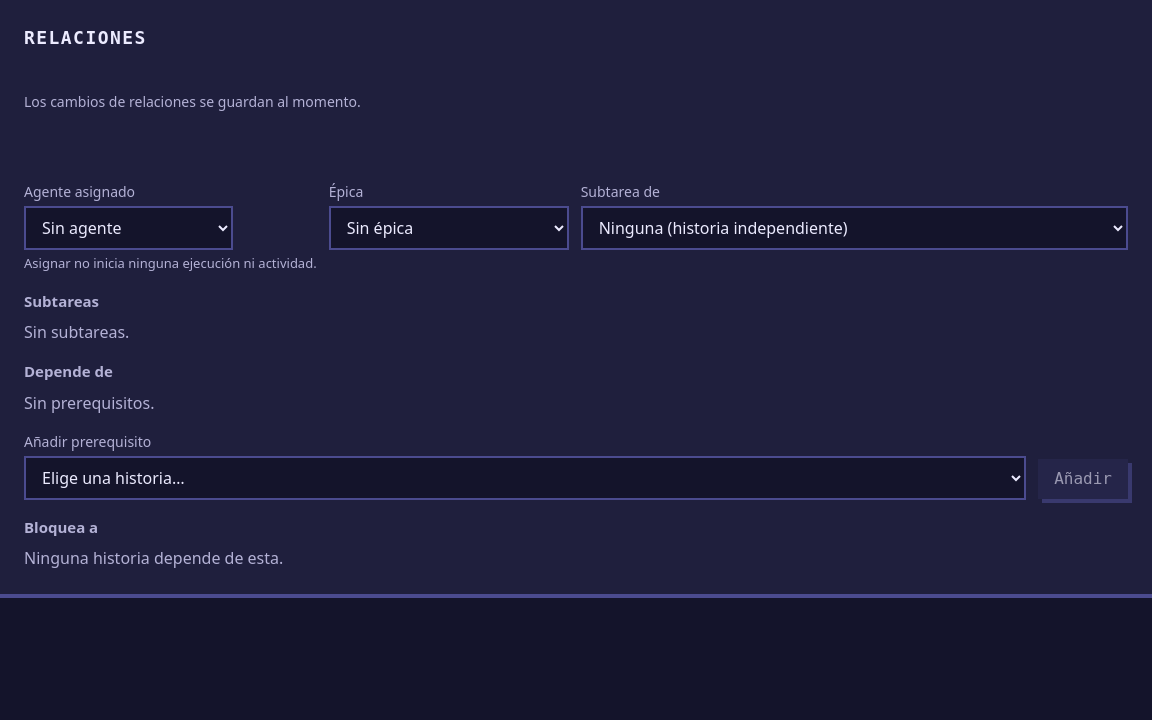
RelationsPanel: confirmación y foco › confirma visiblemente y no pierde el foco al cambiar la épica
Select "E-1 Pagos" in the dropdown labelled "Épica": (449, 228) [329,206,569,250]
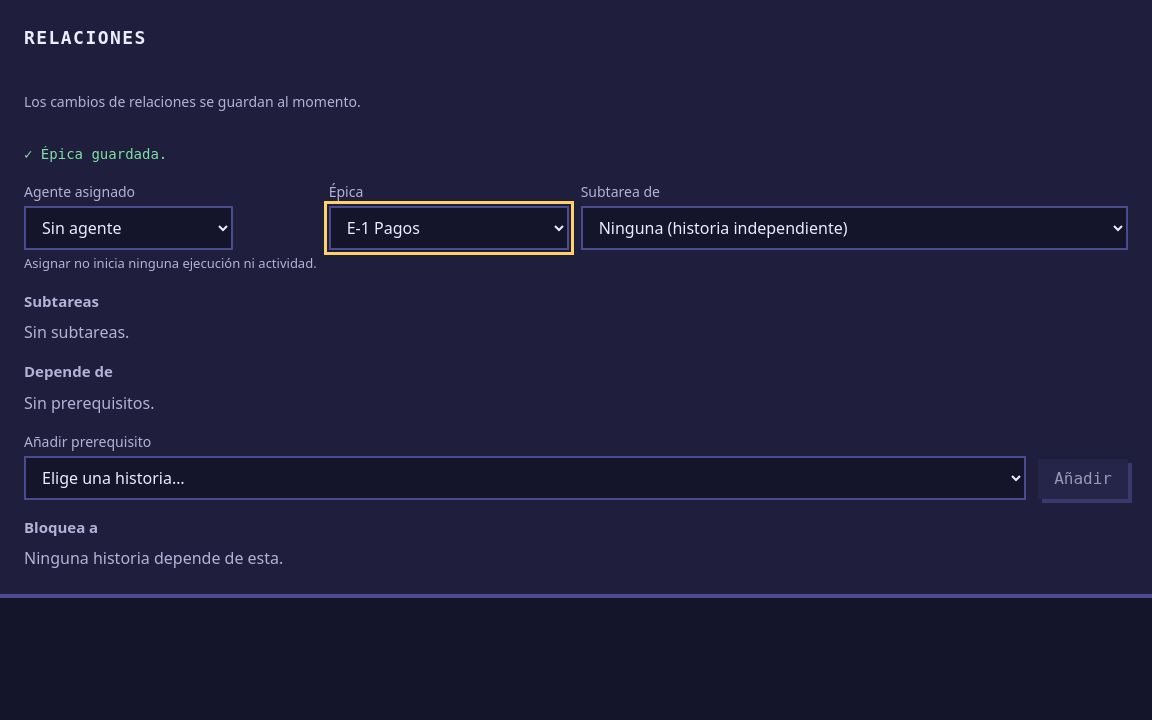
Now the text "✓ Épica guardada." is shown, box [24,146,167,162]
